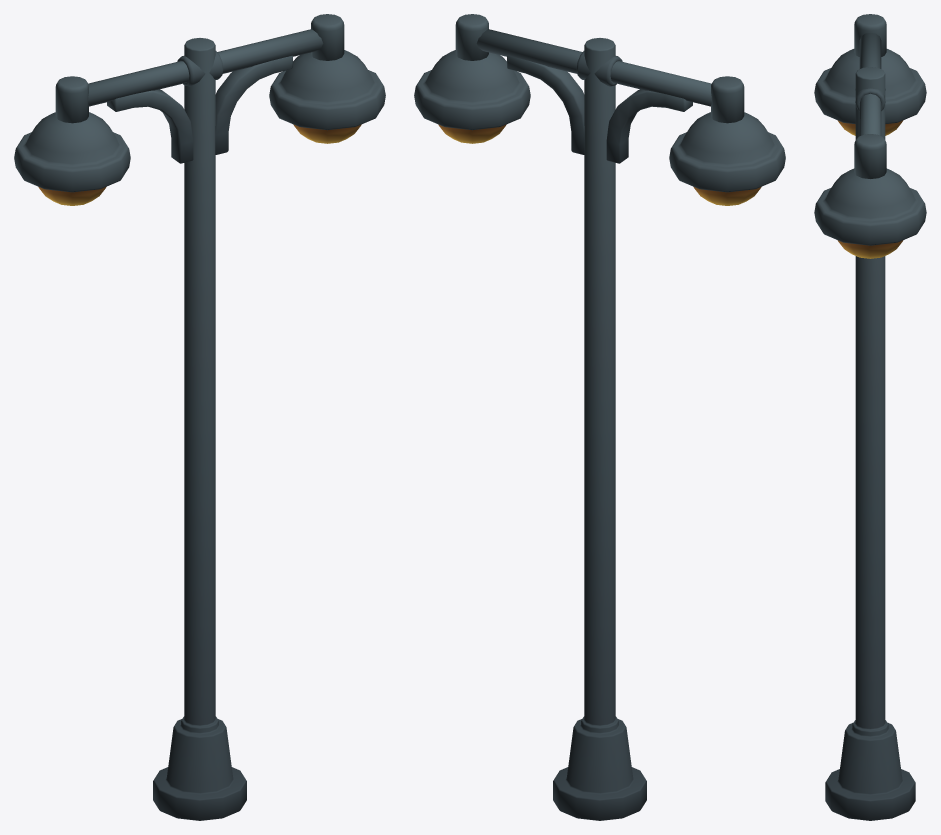
File: mct_prop_streetlamp.fbx
3 renders of one model, left to right at view 1: azimuth 30°, elevation 25°; view 2: azimuth 150°, elevation 25°; view 3: azimuth 270°, elevation 25°, orthographic. The views are drawn at different scales.
Visible parts, largest first — view 1: mct_streetlamp; view 2: mct_streetlamp; view 3: mct_streetlamp.
Boxes of the visible parts, left/top/right/bottom form: mct_streetlamp: left=14, top=14, right=385, bottom=820; mct_streetlamp: left=414, top=14, right=785, bottom=820; mct_streetlamp: left=814, top=14, right=926, bottom=820.
Size of the model in its own units: 196 by 399 by 55.72.
